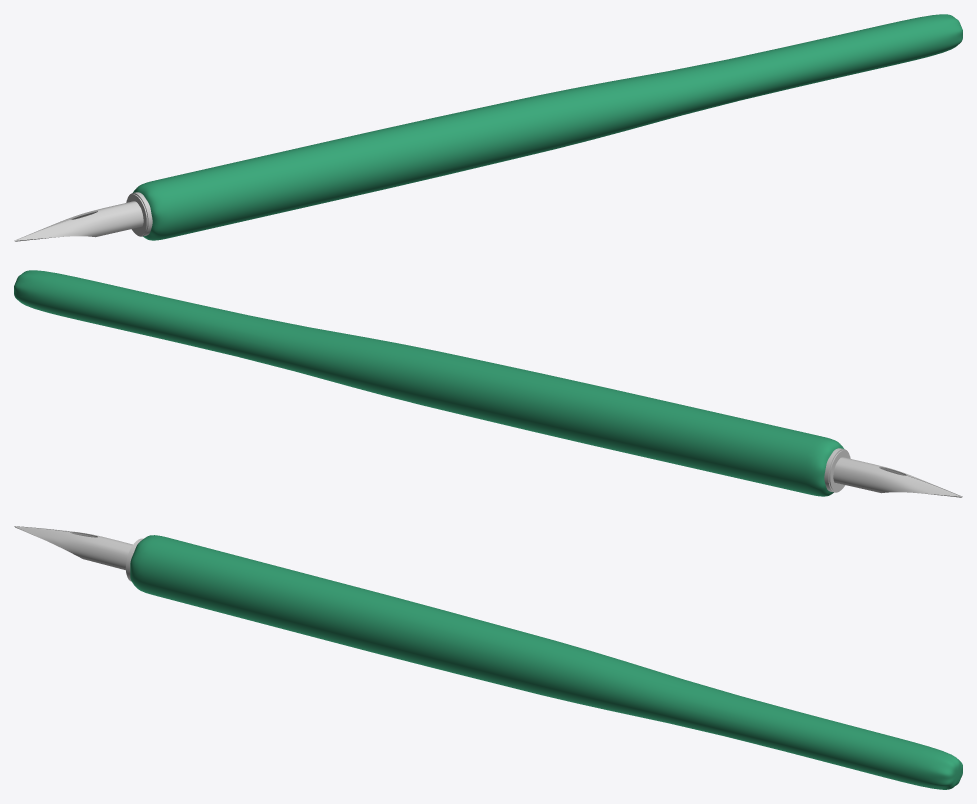
File: 279_丸ペン.glb
3 views of the same model, one above another, from view 1: azimuth 30°, elevation 25°; view 2: azimuth 150°, elevation 25°; view 3: azimuth 330°, elevation 25° (orthographic).
Parts seen in each view (by area): view 1: ペン軸, 丸ペン先; view 2: ペン軸, 丸ペン先; view 3: ペン軸, 丸ペン先.
Boxes of the visible parts, left/top/right/bottom form: ペン軸: left=126, top=14, right=962, bottom=240; 丸ペン先: left=14, top=201, right=143, bottom=241; ペン軸: left=14, top=270, right=850, bottom=496; 丸ペン先: left=833, top=457, right=962, bottom=497; ペン軸: left=125, top=535, right=962, bottom=789; 丸ペン先: left=14, top=526, right=132, bottom=570.
Bounding box in the file's own units: 0.1832 × 0.011 × 0.01.
